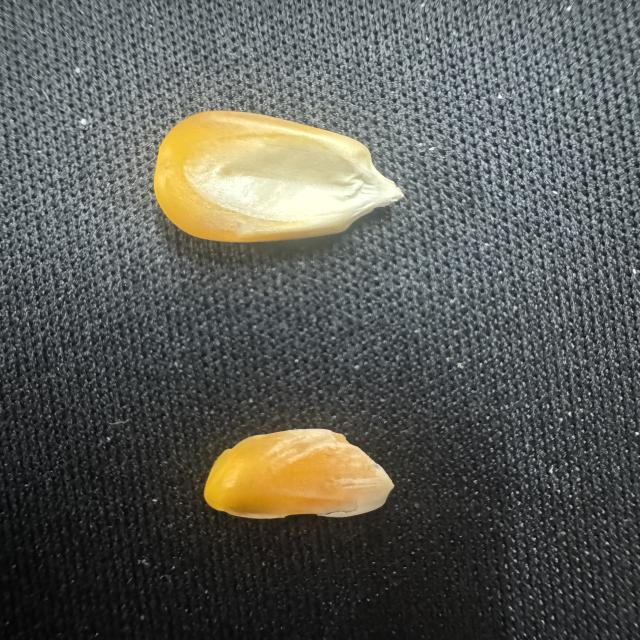Bad-Seed: (195, 422, 404, 538)
Good-Seed: (140, 104, 409, 274)
